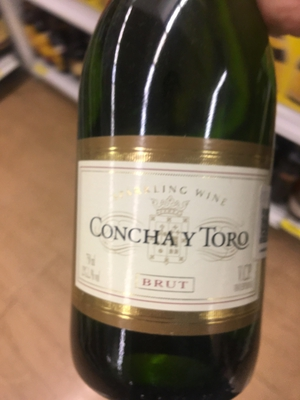brut: (61, 9, 277, 400)
